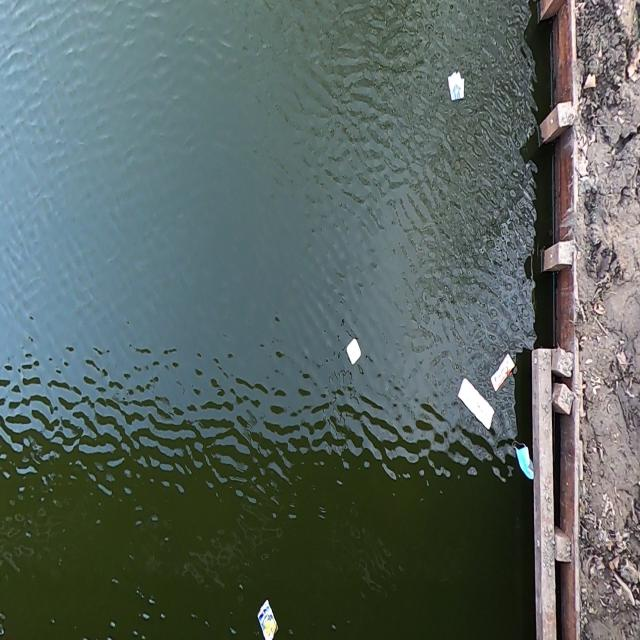Autre plastique: (250, 592, 280, 640)
Non plastique: (510, 431, 534, 489)
